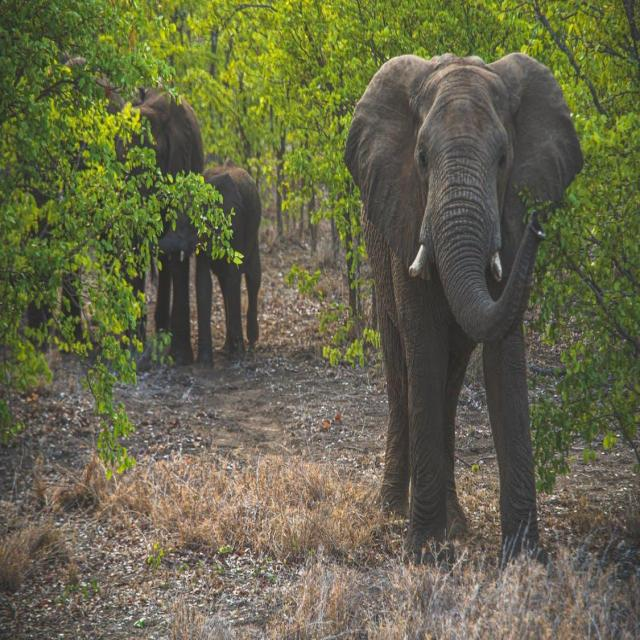Elephant: (344, 49, 593, 552), (104, 82, 275, 363)
